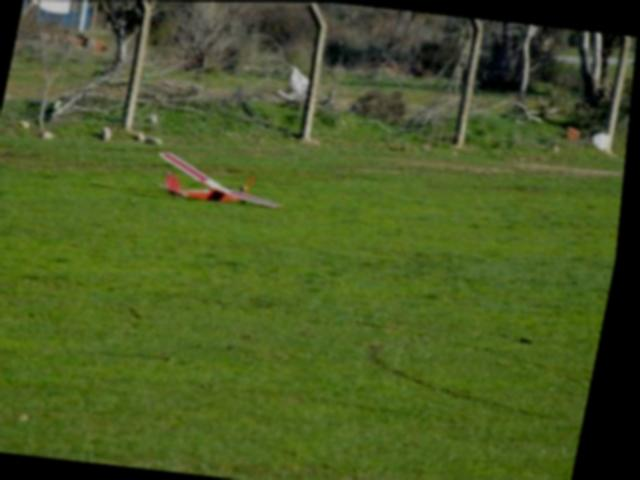iha: (143, 144, 300, 216)
